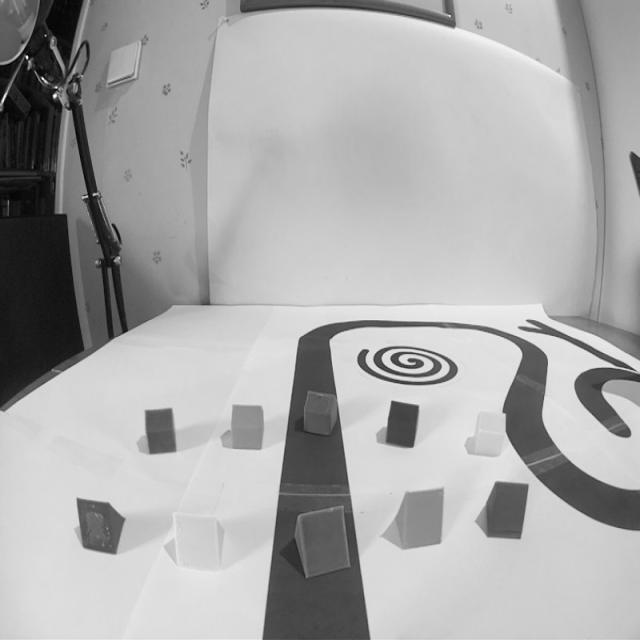home: (485, 481, 529, 538), (302, 391, 338, 437), (472, 410, 507, 457), (386, 401, 420, 449), (230, 404, 262, 451), (144, 409, 177, 454)
lineStraight: (258, 478, 376, 640)
nest: (357, 342, 461, 384)
triangle: (294, 505, 350, 578), (393, 488, 445, 552), (173, 512, 224, 571), (75, 498, 124, 555)
